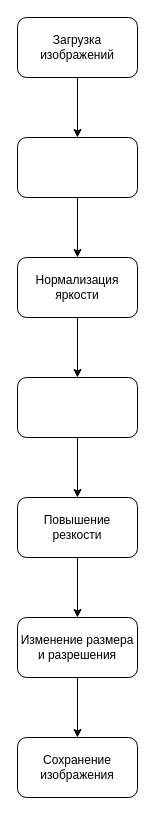
Some shapes in this 155 by 815 pixel diagram are drawn without their labels. The centre of each missing label's shape, as x and y in pixels:
"Увеличение контрастности" belongs at (x=77, y=407).
"Фильтрация шумов" belongs at (x=77, y=167).
